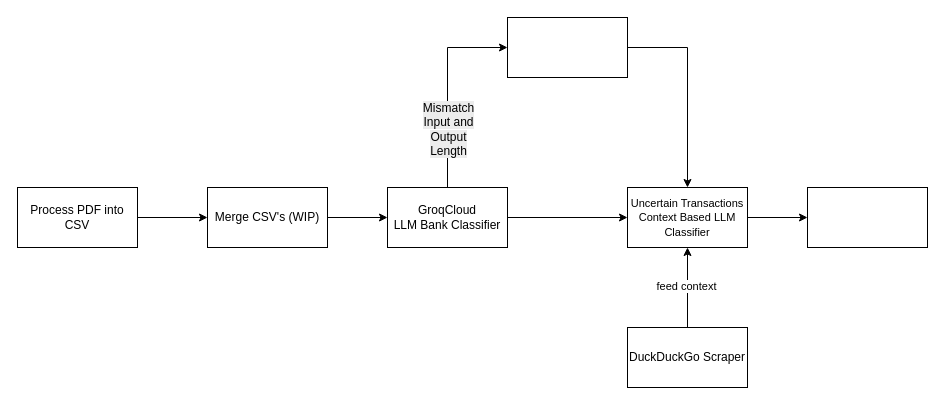
This 945x405 diagram has some shape labels left out. The shapes that lost their labels are listed below. From the top down, each one's centre as x and y in pixels, then its label:
At point 567,47: "LLM Auditor".
At point 867,217: "Final Output".
